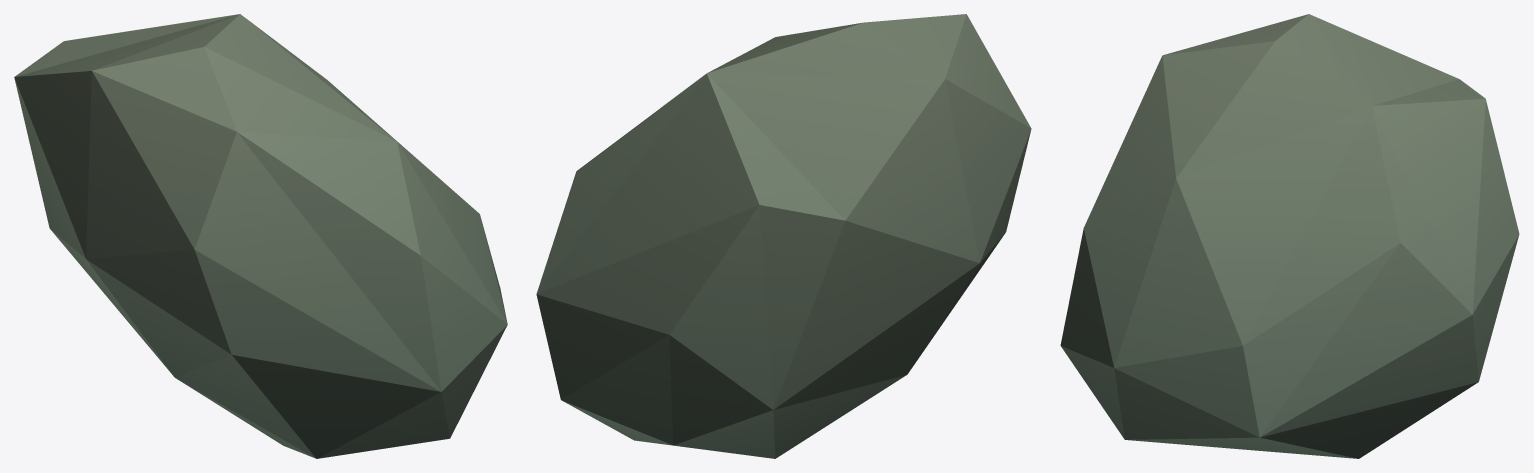
File: Rock_Small_7.fbx
3 renders of one model, left to right at view 1: azimuth 30°, elevation 25°; view 2: azimuth 150°, elevation 25°; view 3: azimuth 270°, elevation 25°, orthographic. The views are drawn at different scales.
Parts seen in each view (by area): view 1: Rock_Small_7; view 2: Rock_Small_7; view 3: Rock_Small_7.
Boxes of the visible parts, left/top/right/bottom form: Rock_Small_7: left=14, top=14, right=507, bottom=458; Rock_Small_7: left=536, top=14, right=1031, bottom=458; Rock_Small_7: left=1060, top=14, right=1519, bottom=458.
Bounding box in the file's own units: 94.42 × 94.69 × 106.
